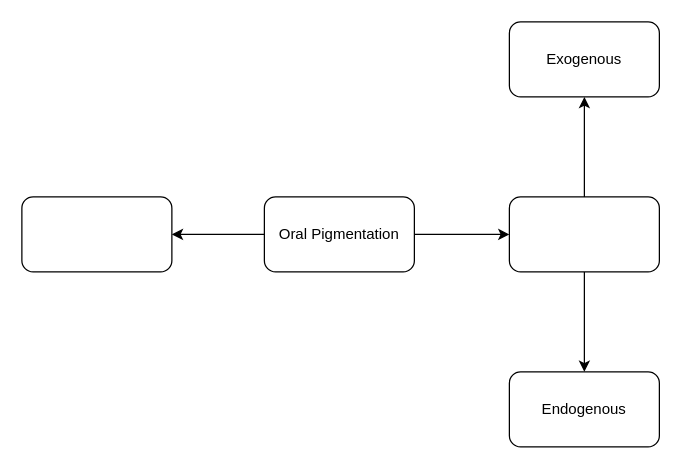
The diagram is 681 pixels wide and 469 high, and some of its shapes have lost their labels. The shapes that lost their labels are listed below. From the top down, each one's centre as x and y in pixels, then its label:
At (x=96, y=234): "Physiologic".
At (x=583, y=234): "Pathologic".
